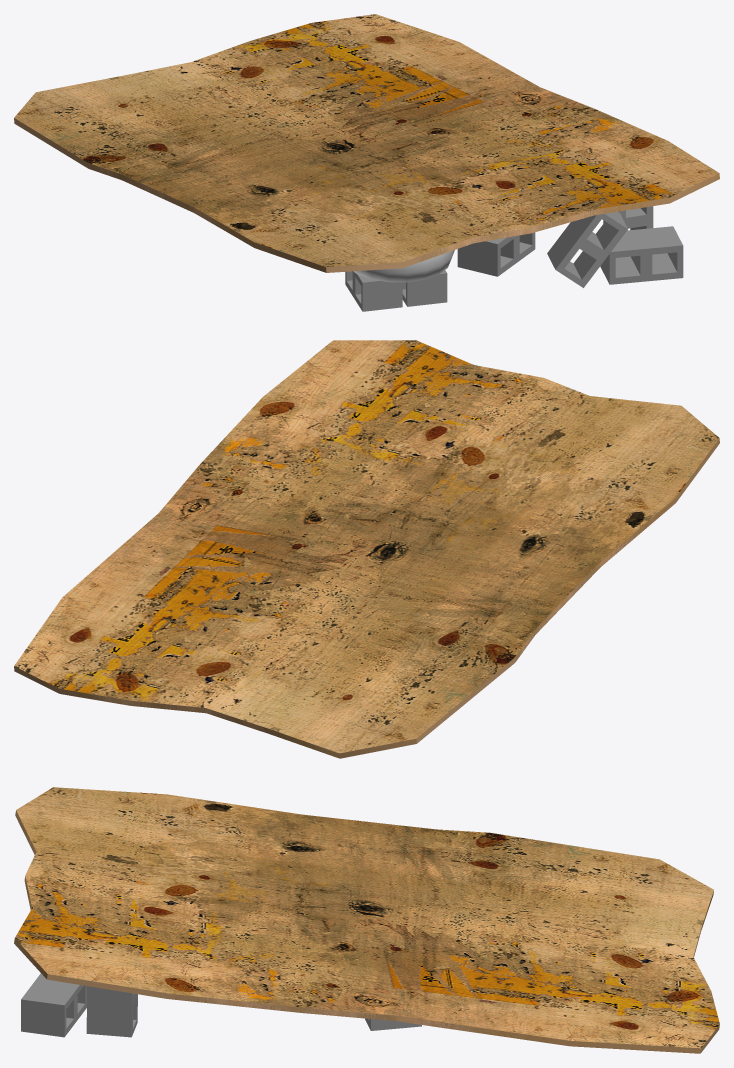
Rendered from Ramp1.FBX.
The picture shows the model from 3 angles, top to bottom: view 1: azimuth 30°, elevation 25°; view 2: azimuth 150°, elevation 25°; view 3: azimuth 270°, elevation 25°; orthographic projection.
Visible parts, largest first — view 1: Ramp1; view 2: Ramp1; view 3: Ramp1.
Boxes of the visible parts, <box> form: Ramp1: <box>14,14,719,311</box>; Ramp1: <box>14,340,719,758</box>; Ramp1: <box>14,787,719,1053</box>.
Bounding box in the file's own units: 210 × 44.84 × 313.
